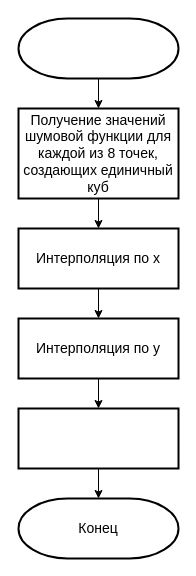
Some shapes in this 196 by 576 pixel diagram are drawn without their labels. Here are the shapes that lost their labels. From the top down, the box of each, then its label:
(17, 17, 179, 79): Начало
(17, 407, 179, 469): Интерполяция по z
